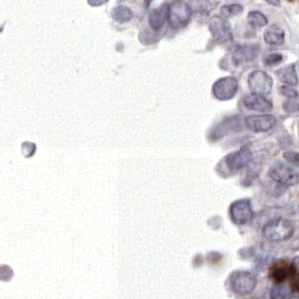Lymphocyte: (267, 259, 298, 287)
